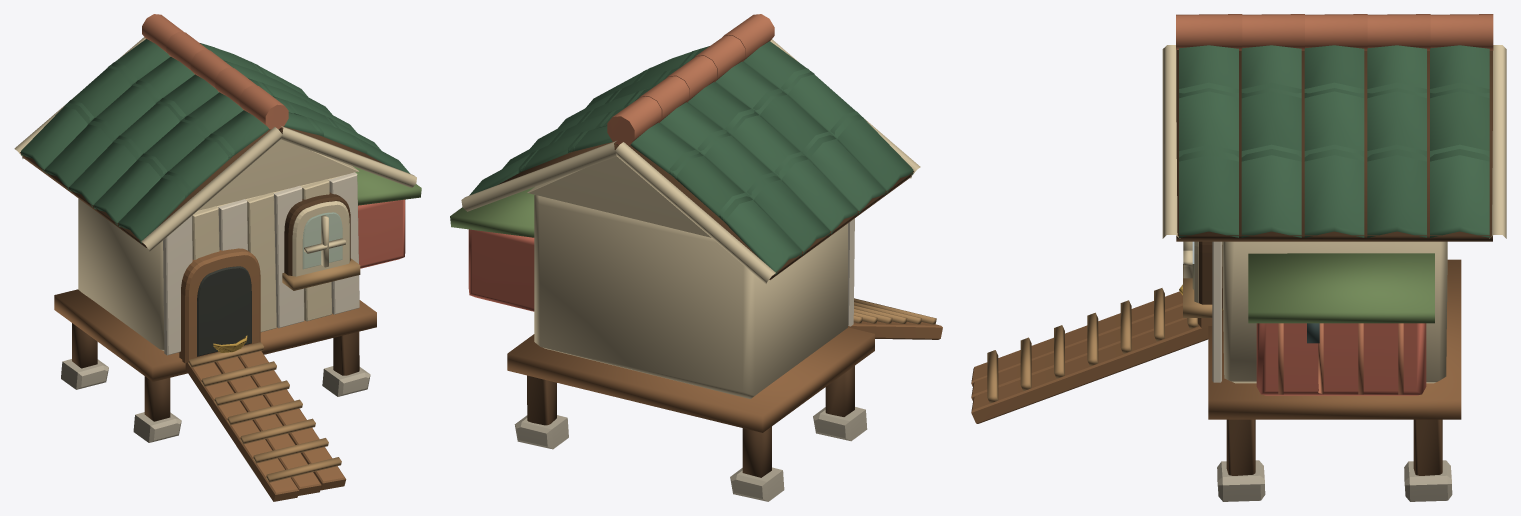
File: gallinero_lod.glb
The picture shows the model from 3 angles, left to right: view 1: azimuth 30°, elevation 25°; view 2: azimuth 150°, elevation 25°; view 3: azimuth 270°, elevation 25°; orthographic projection. The views are drawn at different scales.
Parts seen in each view (by area): view 1: gallinero, ga_ventana_vidrio; view 2: gallinero; view 3: gallinero.
Part boxes in pixels (box(x1,y1,x2,y2)): gallinero: box(14, 14, 421, 501); ga_ventana_vidrio: box(303, 212, 342, 268); gallinero: box(450, 14, 942, 501); gallinero: box(971, 14, 1506, 501).
Bounding box in the file's own units: 2.36 × 2.37 × 2.75.
